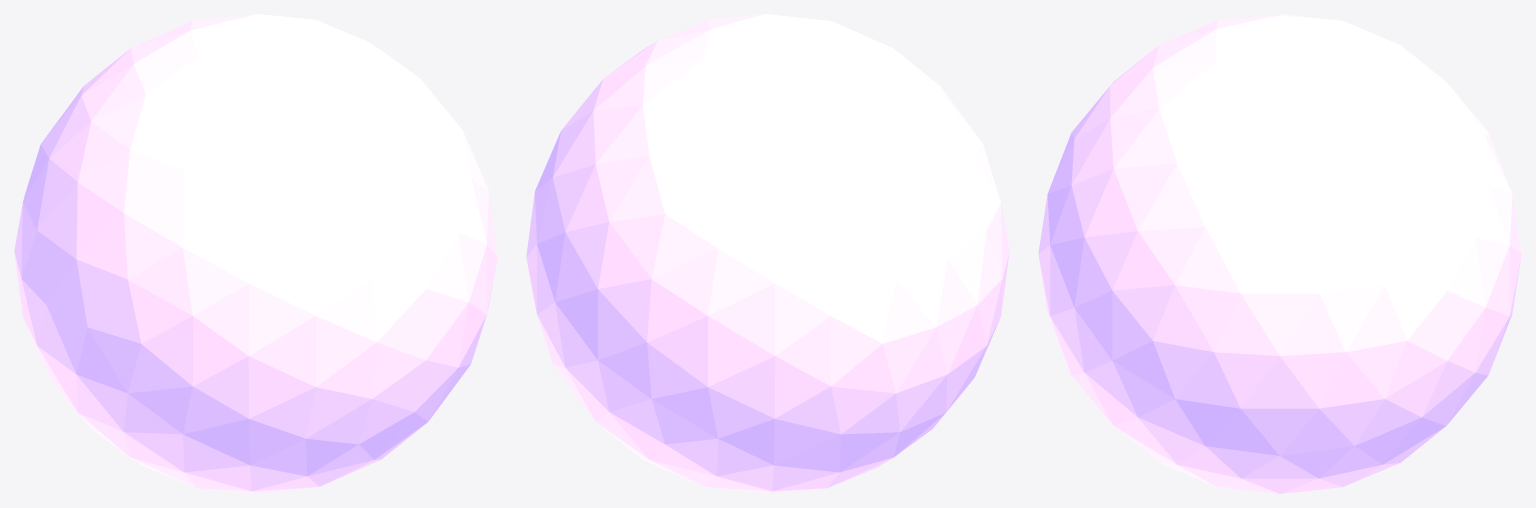
The model's file is hexad-integrity.glb.
3 renders of one model, left to right at view 1: azimuth 30°, elevation 25°; view 2: azimuth 150°, elevation 25°; view 3: azimuth 270°, elevation 25°, orthographic.
Visible parts, largest first — view 1: Outer_Shell; view 2: Outer_Shell; view 3: Outer_Shell.
Part boxes in pixels (bbox=[...]): Outer_Shell: bbox=[14, 14, 497, 493]; Outer_Shell: bbox=[526, 14, 1009, 493]; Outer_Shell: bbox=[1038, 14, 1521, 493].
Size of the model in its own units: 2.28 by 2.28 by 2.28.
